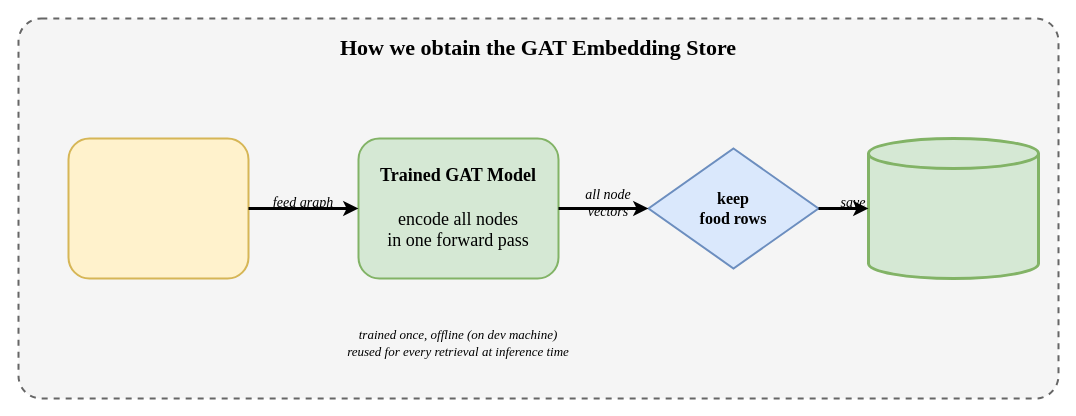
This 1076x416 diagram has some shape labels left out. The box of each missing label's shape, as (x1, y1, x2, y2) in pixels:
GAT Embedding Store ~10k × 64-dim: (866, 136, 1040, 280)
Knowledge Graph food + nutrient + recipe + tag: (67, 137, 249, 279)
